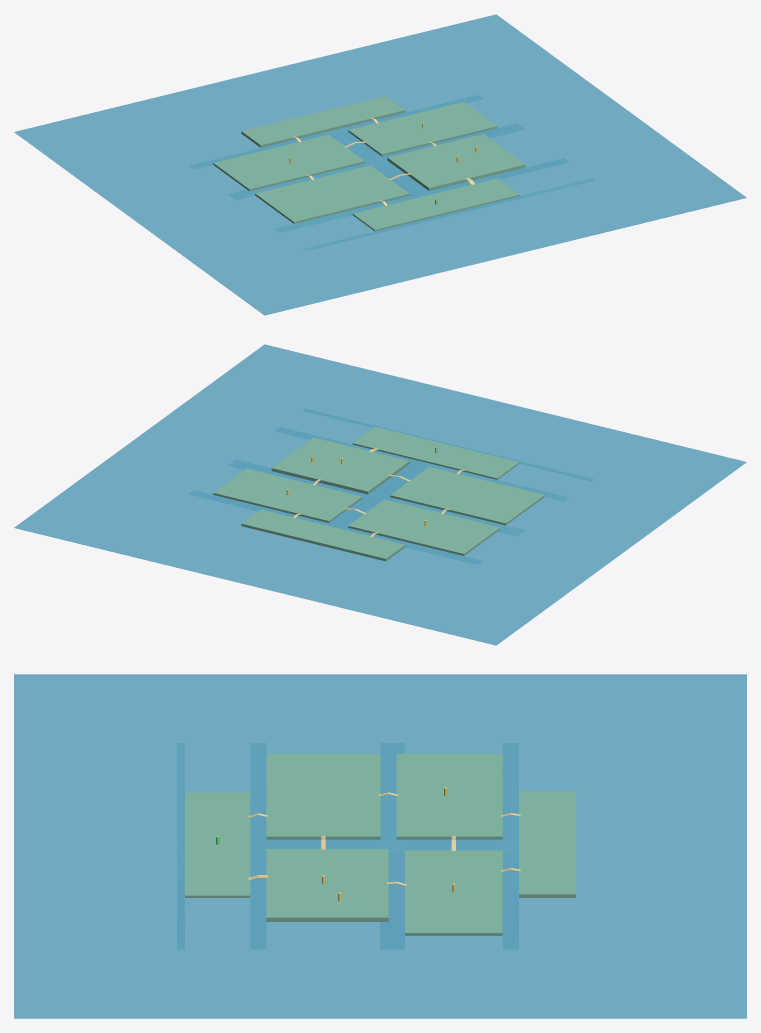
Rendered from greybox.glb.
The picture shows the model from 3 angles, top to bottom: view 1: azimuth 30°, elevation 25°; view 2: azimuth 150°, elevation 25°; view 3: azimuth 270°, elevation 25°; orthographic projection. The views are drawn at different scales.
Parts seen in each view (by area): view 1: SEA, ZONE_brocade, ZONE_craft, ZONE_tower, ZONE_counting, ZONE_quay, ZONE_gardens, WATER_南運河, WATER_中運河, WATER_東西運河, WATER_北運河, WATER_外河; view 2: SEA, ZONE_brocade, ZONE_craft, ZONE_tower, ZONE_counting, ZONE_quay, ZONE_gardens, WATER_東西運河, WATER_中運河, WATER_北運河, WATER_南運河, WATER_外河; view 3: SEA, ZONE_brocade, ZONE_craft, ZONE_tower, ZONE_counting, ZONE_quay, ZONE_gardens, WATER_東西運河, WATER_南運河, WATER_北運河, WATER_中運河, WATER_外河.
Boxes of the visible parts, x1,y1,x2,y2 form: SEA: (14, 14, 746, 315); ZONE_brocade: (255, 165, 409, 223); ZONE_craft: (213, 134, 365, 191); ZONE_tower: (387, 134, 525, 190); ZONE_counting: (348, 102, 497, 156); ZONE_quay: (352, 178, 519, 231); ZONE_gardens: (241, 96, 405, 147); WATER_南運河: (275, 158, 568, 232); WATER_中運河: (324, 128, 428, 195); WATER_東西運河: (227, 124, 524, 199); WATER_北運河: (188, 95, 482, 169); WATER_外河: (303, 178, 594, 250); SEA: (14, 344, 746, 645); ZONE_brocade: (390, 466, 544, 525); ZONE_craft: (348, 499, 500, 555); ZONE_tower: (271, 437, 409, 494); ZONE_counting: (213, 468, 362, 522); ZONE_quay: (352, 427, 519, 479); ZONE_gardens: (241, 509, 405, 561); WATER_東西運河: (228, 460, 524, 536); WATER_中運河: (327, 464, 426, 529); WATER_北運河: (189, 490, 482, 564); WATER_南運河: (276, 427, 569, 501); WATER_外河: (303, 409, 594, 481); SEA: (14, 674, 746, 1018); ZONE_brocade: (266, 754, 380, 839); ZONE_craft: (396, 754, 502, 839); ZONE_tower: (266, 849, 388, 921); ZONE_counting: (405, 850, 502, 935); ZONE_quay: (185, 792, 250, 897); ZONE_gardens: (519, 791, 575, 897); WATER_東西運河: (380, 743, 404, 949); WATER_南運河: (250, 743, 266, 949); WATER_北運河: (502, 743, 518, 949); WATER_中運河: (266, 839, 518, 853); WATER_外河: (177, 743, 184, 949).
Bounding box in the file's own units: 1000 × 16.3 × 900.
